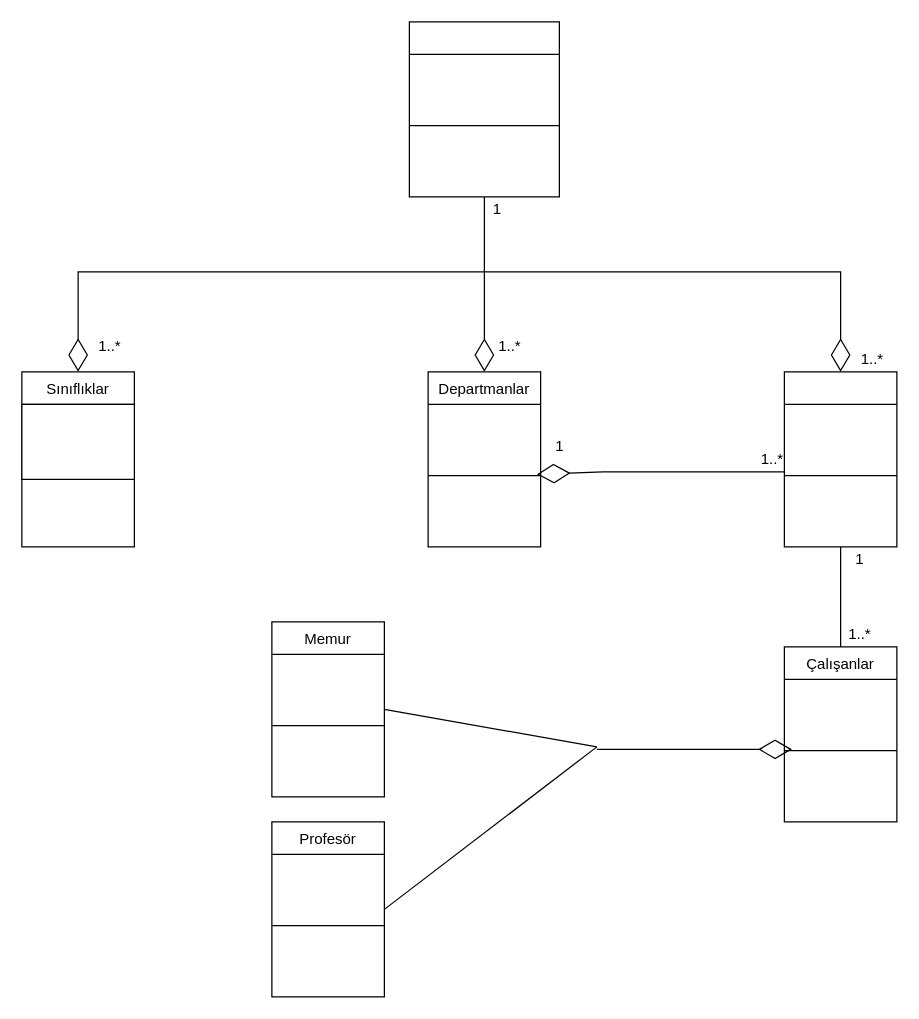
This 919x1019 diagram has some shape labels left out. The shapes that lost their labels are listed below. From the top down, each one's centre as x and y in pixels, then its label:
the point at 483,109: Üniversite
the point at 840,459: Ofisler
